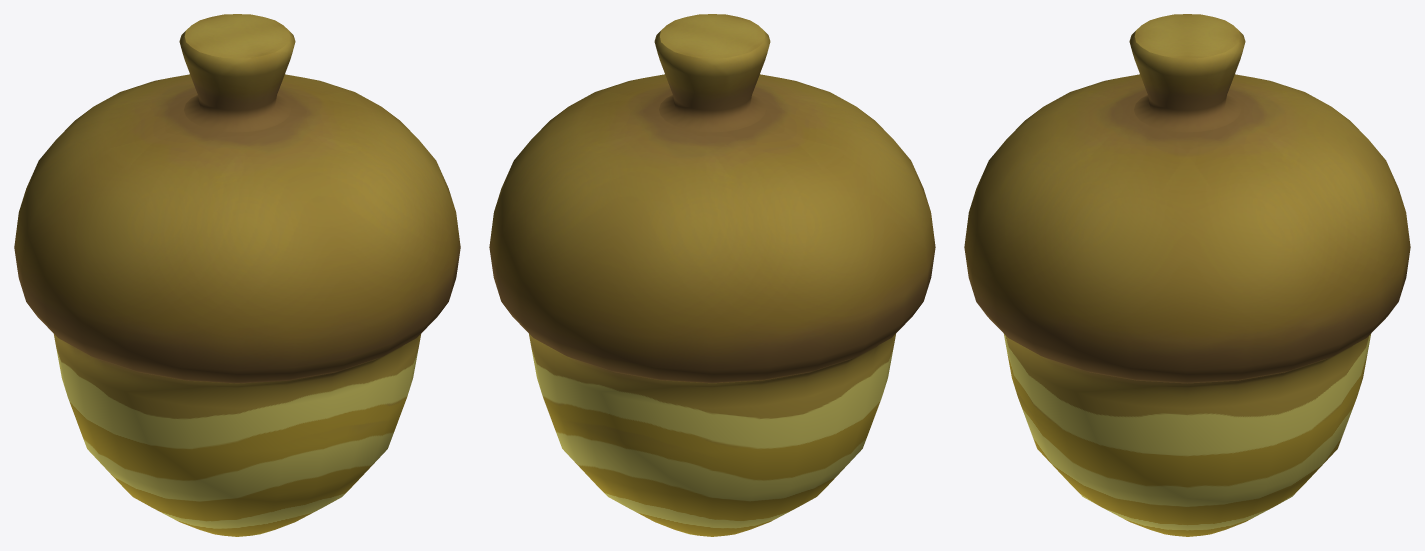
Rendered from gold_acorn.gltf.
3 views of the same model, side by side, from view 1: azimuth 30°, elevation 25°; view 2: azimuth 150°, elevation 25°; view 3: azimuth 270°, elevation 25° (orthographic).
Parts seen in each view (by area): view 1: Acorn; view 2: Acorn; view 3: Acorn.
Boxes of the visible parts, x1,y1,x2,y2 form: Acorn: [14, 14, 460, 536]; Acorn: [489, 14, 935, 536]; Acorn: [964, 14, 1410, 536].
Bounding box in the file's own units: 0.3572 × 0.4402 × 0.3572.
1 material, 1 textured.
